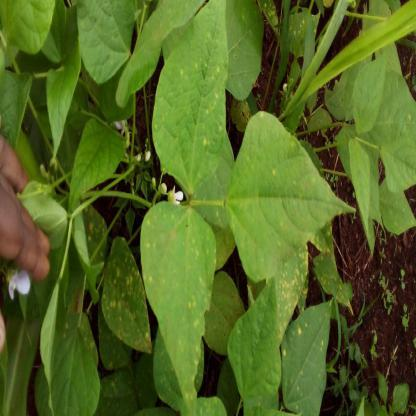Beans_Rust: (228, 112, 359, 281), (142, 203, 217, 416), (153, 0, 227, 194), (280, 294, 334, 416), (103, 237, 150, 353), (262, 246, 310, 319)
